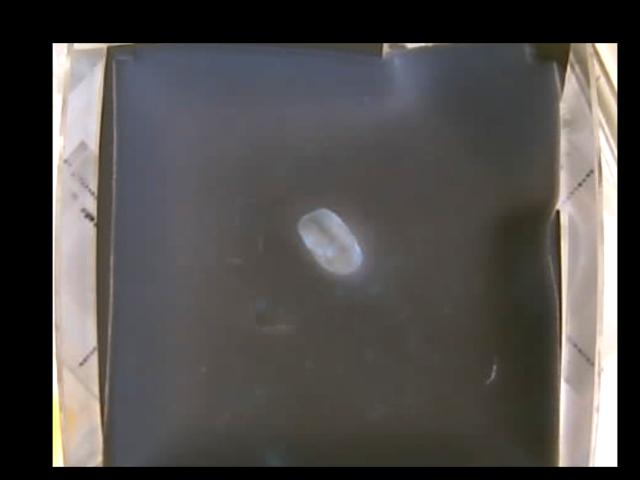Pebble: (298, 207, 364, 275)
